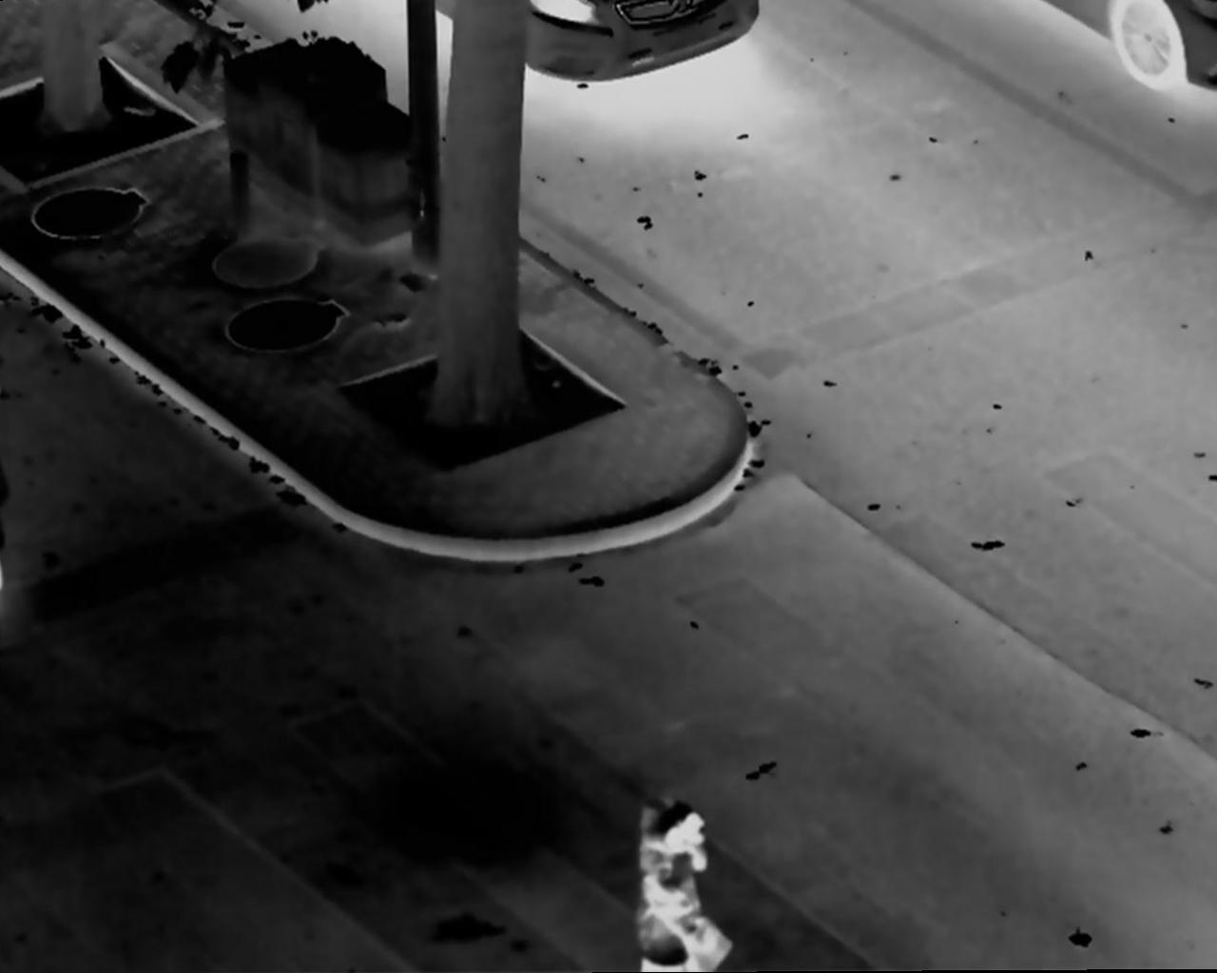person: (628, 792, 743, 973)
